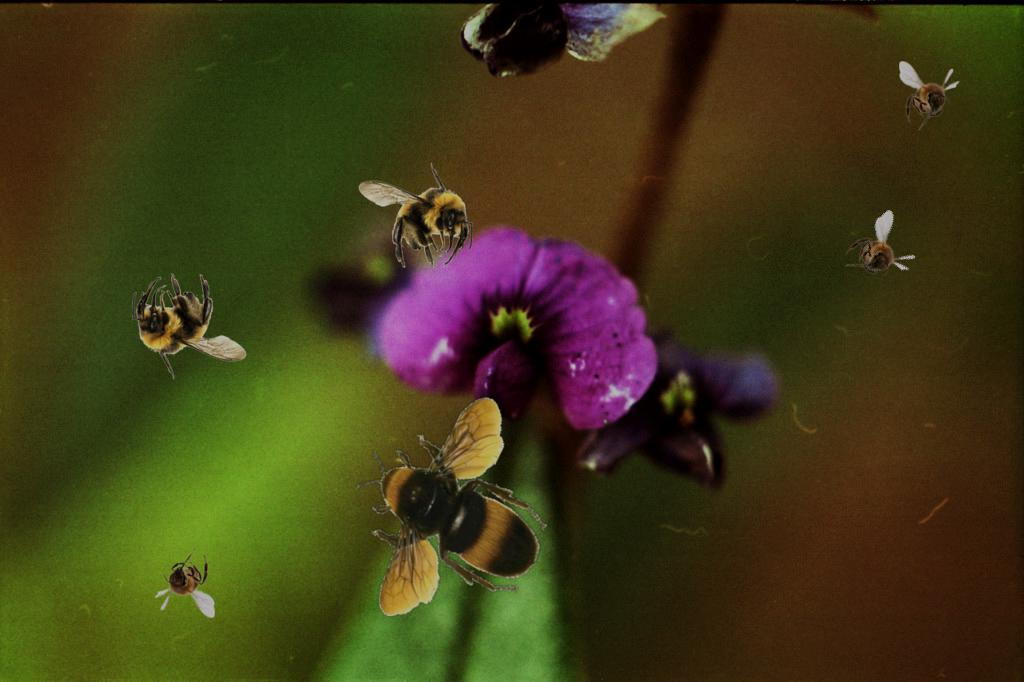Bee: (356, 396, 547, 616), (132, 273, 247, 380), (358, 162, 473, 269), (833, 208, 926, 300), (154, 548, 215, 618), (899, 61, 960, 131)
